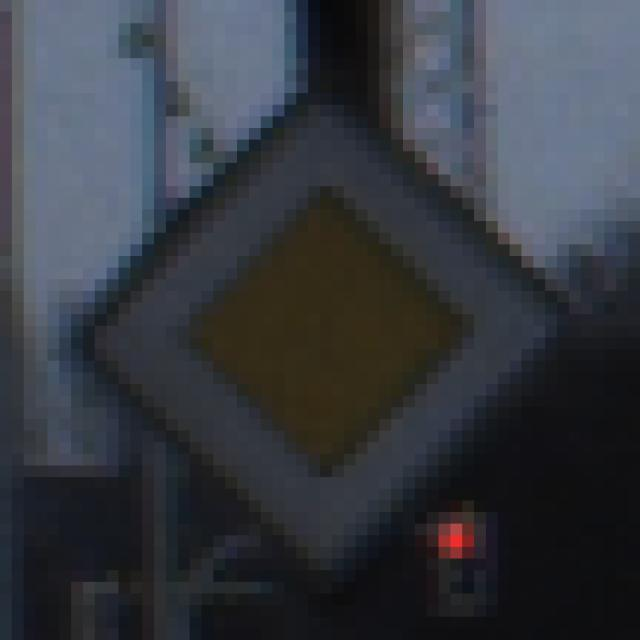Main Road: (60, 59, 582, 583)
